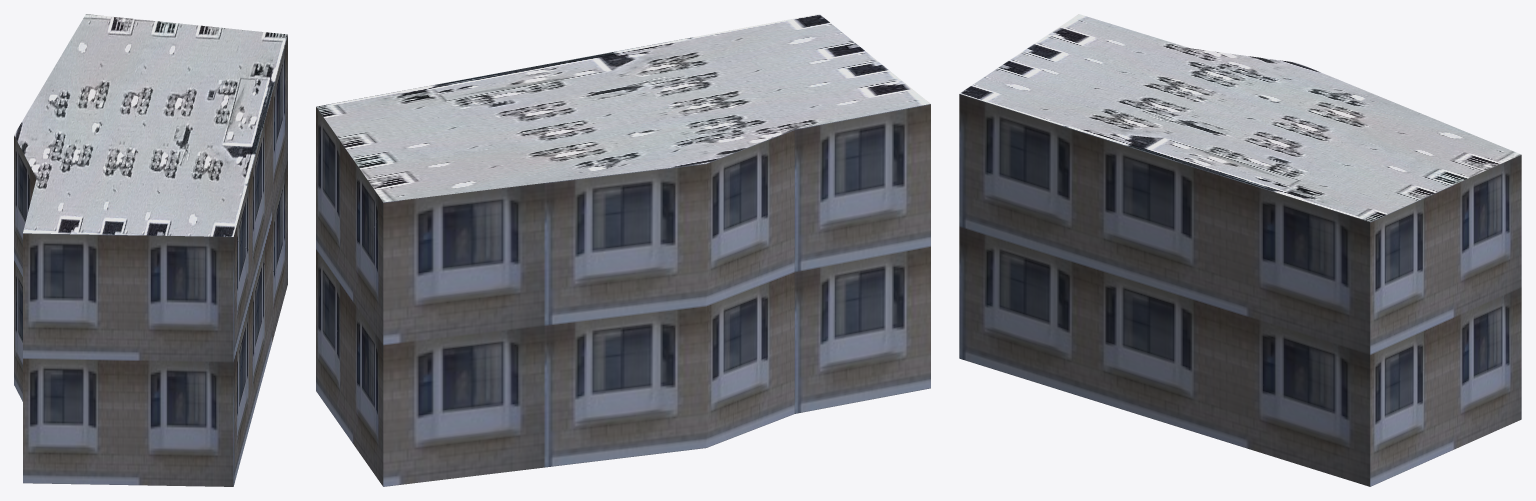
The model's file is ResTex__3637.fbx.
3 renders of one model, left to right at view 1: azimuth 30°, elevation 25°; view 2: azimuth 150°, elevation 25°; view 3: azimuth 270°, elevation 25°, orthographic. The views are drawn at different scales.
Parts seen in each view (by area): view 1: CityEngineMaterial_3_m, CityEngineMaterial_8_m; view 2: CityEngineMaterial_3_m, CityEngineMaterial_8_m; view 3: CityEngineMaterial_3_m, CityEngineMaterial_8_m.
Part boxes in pixels (x1,y1,x2,y2): CityEngineMaterial_3_m: (14,35,287,486); CityEngineMaterial_8_m: (14,14,287,236); CityEngineMaterial_3_m: (316,104,930,486); CityEngineMaterial_8_m: (316,14,930,202); CityEngineMaterial_3_m: (959,94,1521,486); CityEngineMaterial_8_m: (959,14,1521,221).
Bounding box in the file's own units: 10.11 × 6 × 11.55.
Materials: 2 (2 with a texture image).
